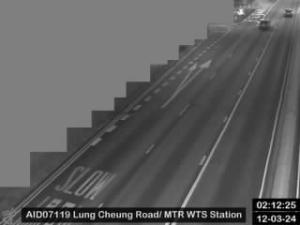vehicle: (258, 19, 270, 30), (284, 9, 294, 17)
